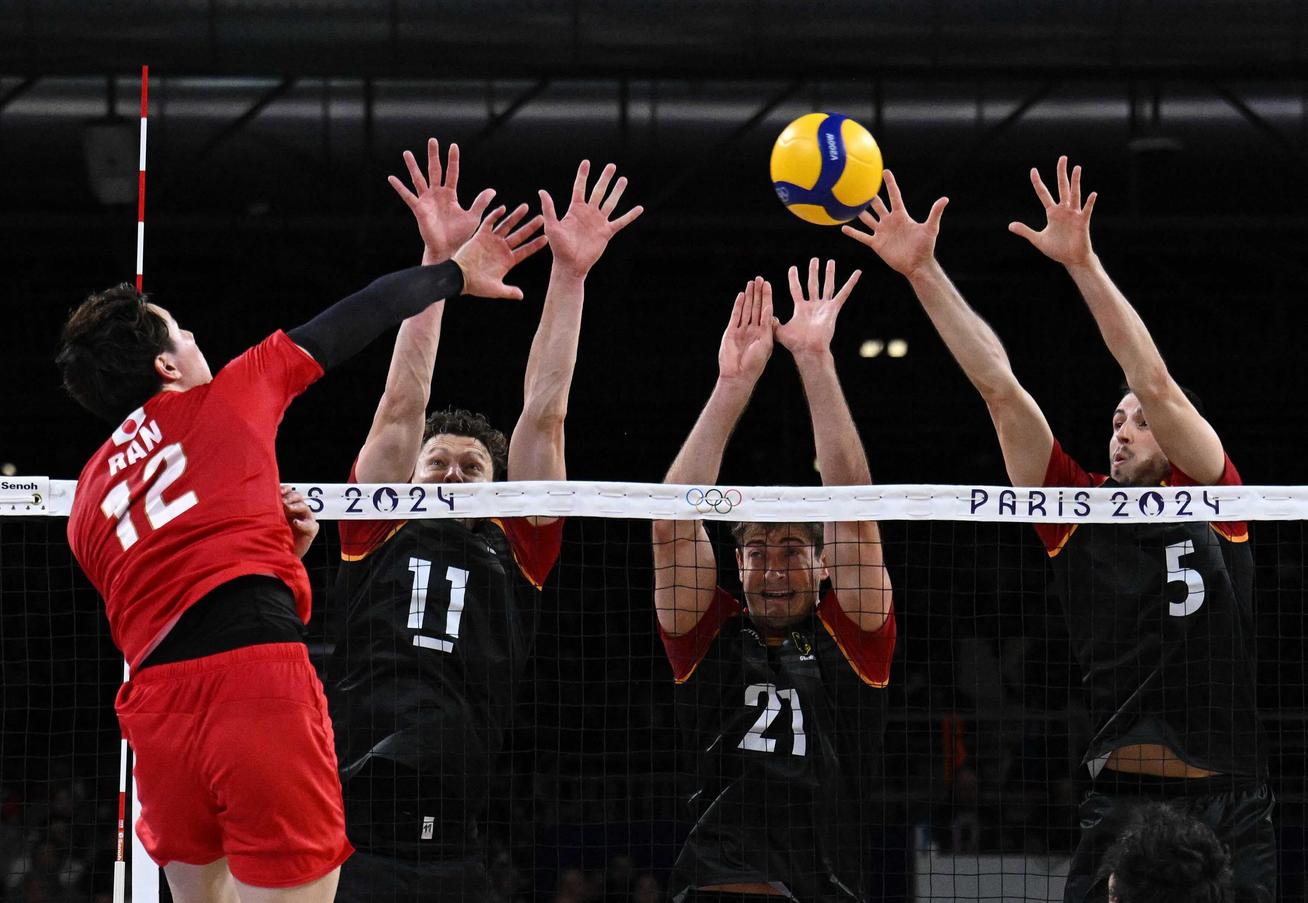ballon_volley: (767, 110, 884, 227)
